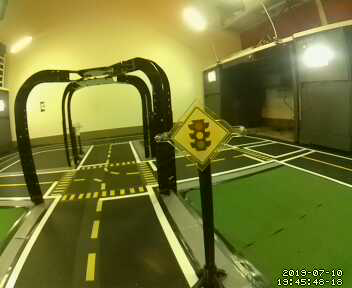Traffic light sign: (174, 109, 227, 165)
